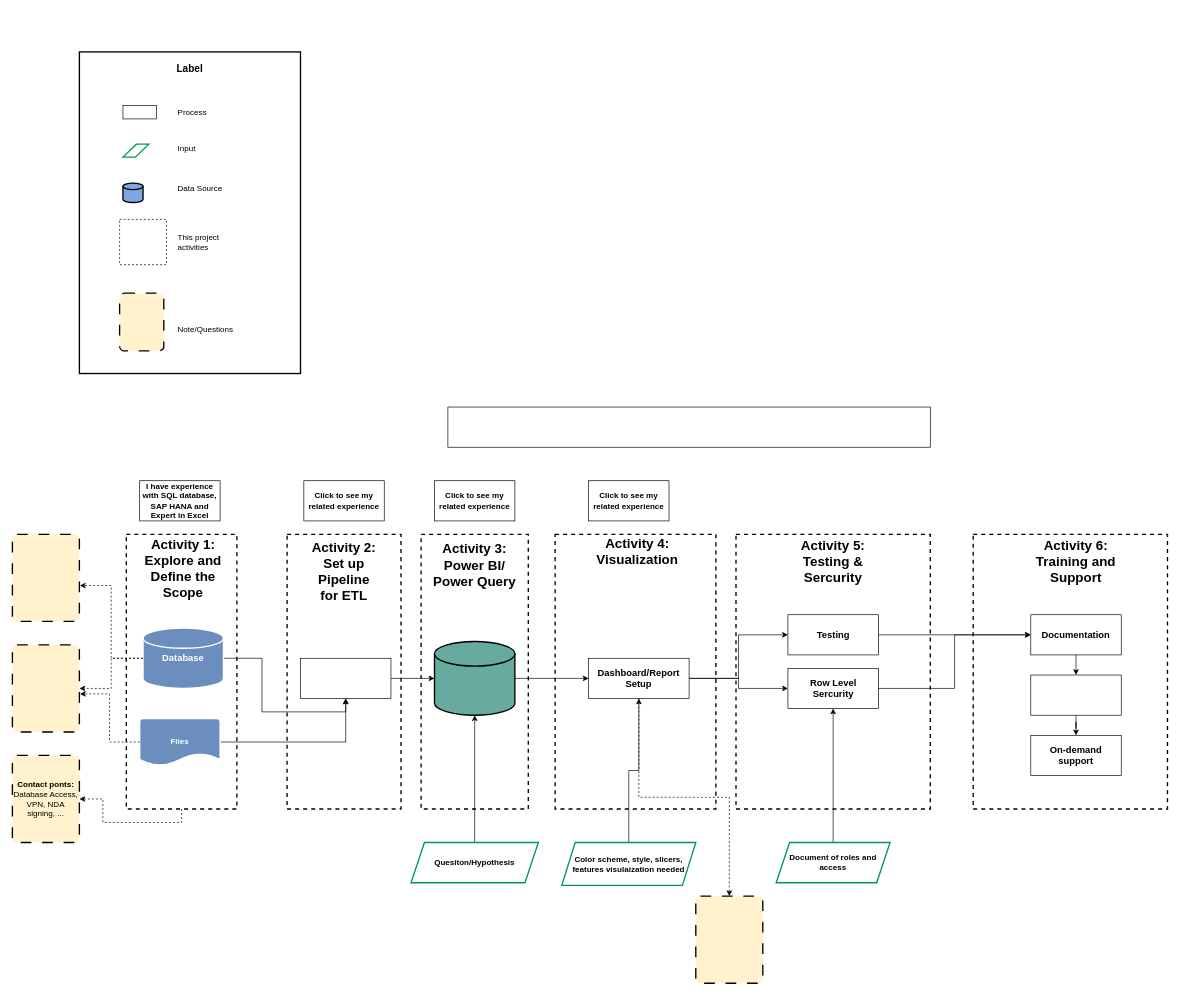
Some shapes in this 1179 by 995 pixel diagram are drawn without their labels. Each missing label, with the centre of its shape:
"Activity" goes at pixel 142 242.
"Data Model" goes at pixel 474 678.
"Do you have any examples dashboard we can refer to?" goes at pixel 729 939.
"ETL" goes at pixel 345 678.
"My full portfolio" goes at pixel 688 426.
"Training" goes at pixel 1075 694.
"What is the store procedure" goes at pixel 45 688.
"Which tables are commonly used?" goes at pixel 45 577.
